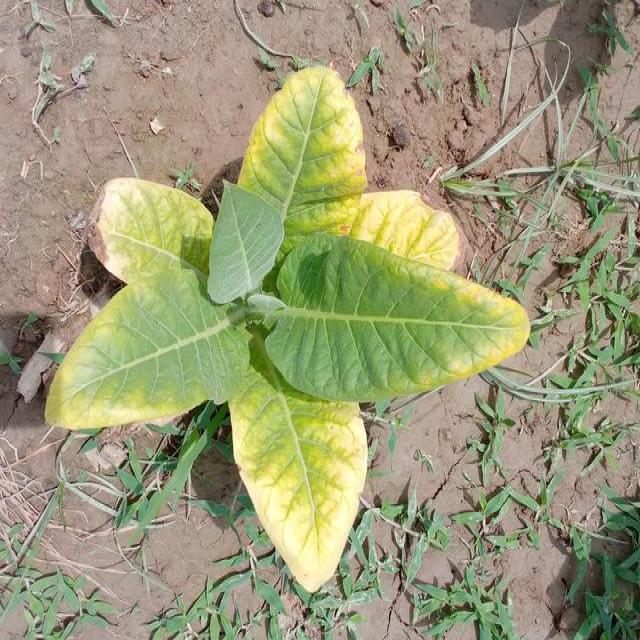crop: (38, 66, 530, 589)
